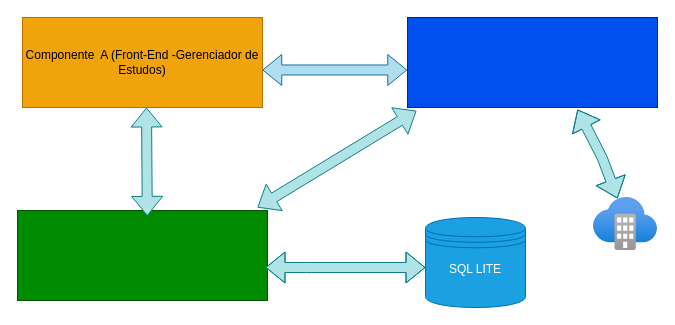
The diagram is 675 pixels wide and 325 high, and some of its shapes have lost their labels. The box of each missing label's shape, as (x1, y1, x2, y2) in pixels:
Componente B (Api Externa - CEP): (406, 16, 658, 108)
Componente C (Back-End - API Rest): (16, 210, 268, 300)
